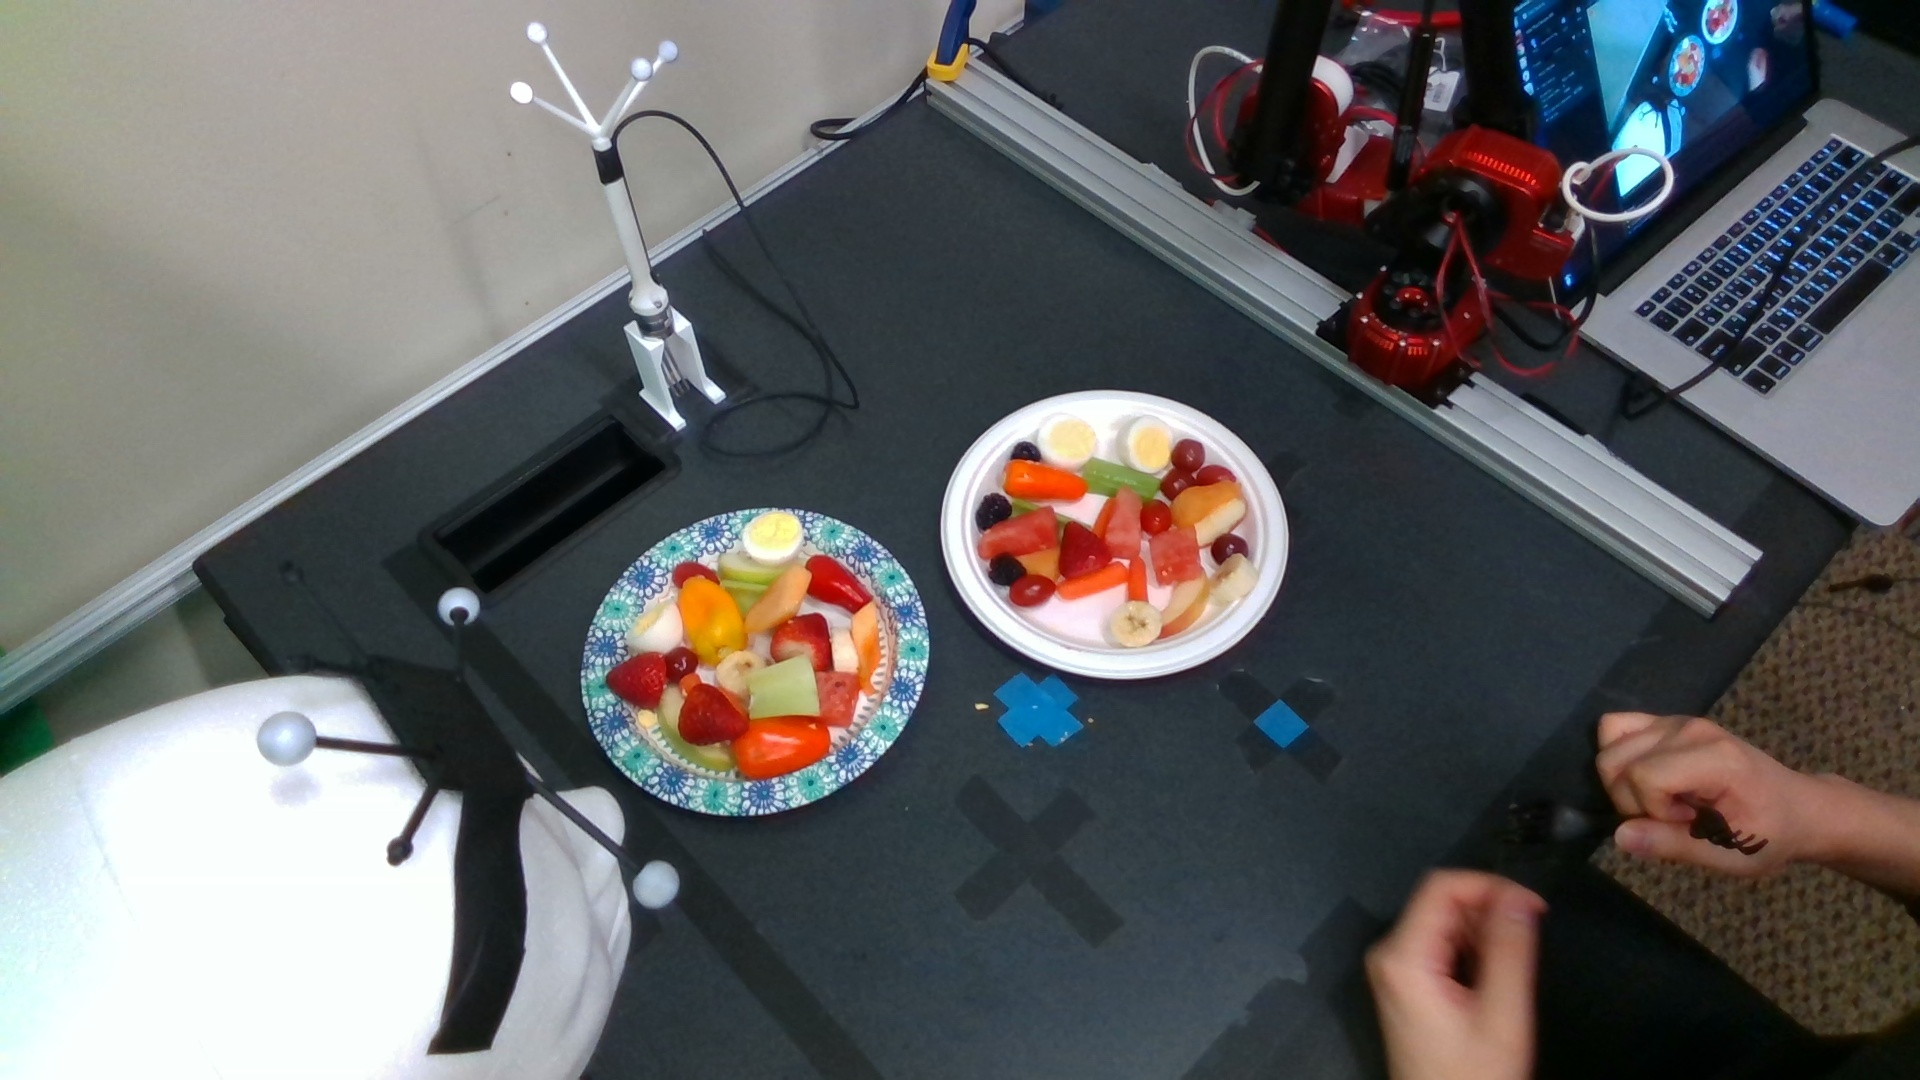apple: (658, 684, 735, 771), (1160, 564, 1207, 638), (1196, 498, 1249, 546), (717, 553, 785, 582)
banana: (715, 651, 767, 696), (1112, 600, 1160, 647), (1211, 554, 1259, 601), (831, 626, 858, 674)
bell_pepper: (679, 575, 746, 665), (733, 717, 831, 778), (804, 555, 872, 611), (1004, 459, 1088, 501)
blackberry: (977, 493, 1013, 531), (988, 554, 1029, 584), (1011, 439, 1040, 463)
cantalope: (746, 567, 810, 632), (1174, 483, 1244, 524), (853, 603, 881, 694)
carrot: (1059, 562, 1127, 597), (1127, 556, 1149, 603)
celery: (749, 655, 822, 719), (1083, 458, 1160, 500)
cherry_tomato: (1010, 574, 1056, 607), (1142, 500, 1172, 535), (1197, 464, 1236, 484)
egg: (1038, 414, 1098, 469), (1116, 415, 1172, 472), (742, 512, 802, 566), (626, 600, 683, 653)
grape_purple: (1213, 534, 1247, 564), (666, 646, 698, 678), (1174, 439, 1204, 471), (1162, 471, 1195, 498)
melon: (978, 506, 1059, 558), (1153, 525, 1201, 583), (1105, 487, 1142, 556), (814, 673, 858, 727)
strawberry: (679, 683, 749, 746), (769, 613, 832, 670), (608, 651, 665, 707), (1059, 522, 1112, 578)
